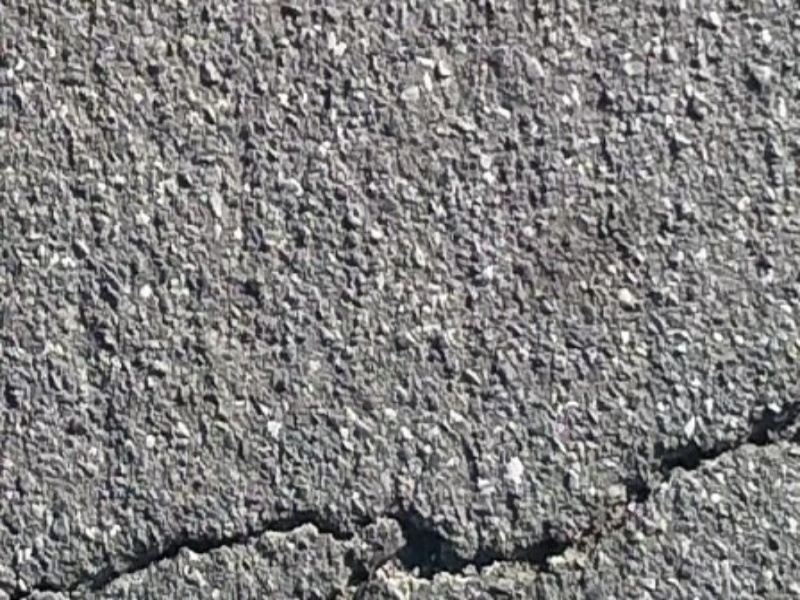crack: (32, 399, 794, 588)
